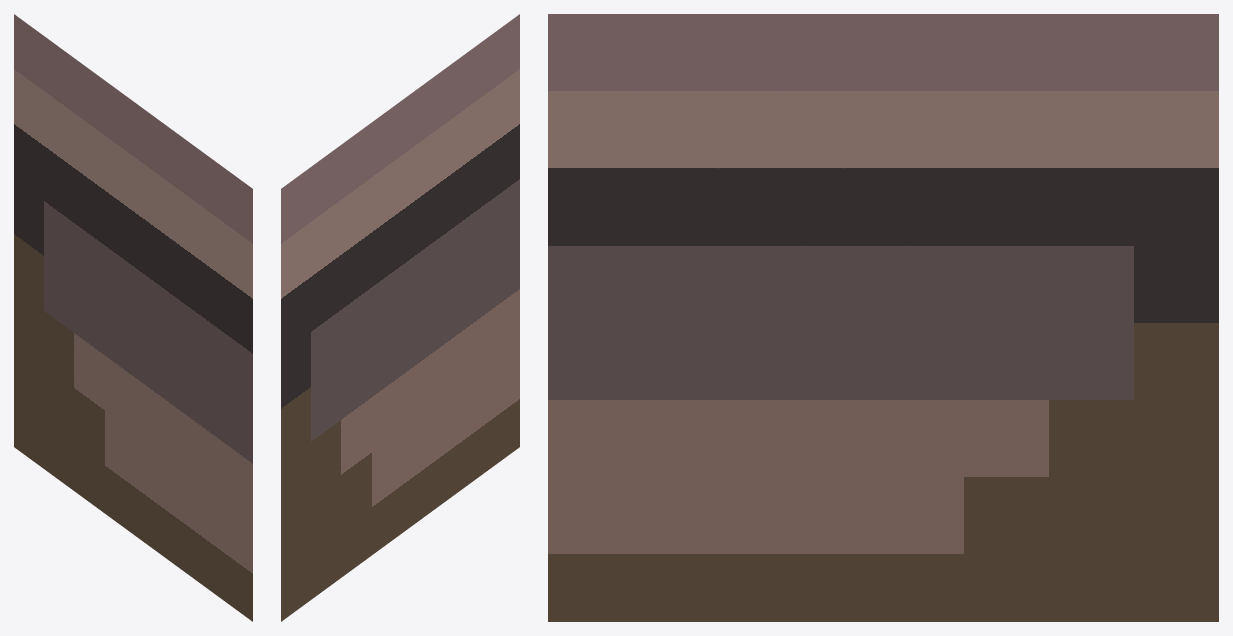
3 renders of one model, left to right at view 1: azimuth 30°, elevation 25°; view 2: azimuth 150°, elevation 25°; view 3: azimuth 270°, elevation 25°, orthographic. The views are drawn at different scales.
Bounding box in the file's own units: 0 × 0.5 × 0.5.
Materials: 1 (1 with a texture image).
